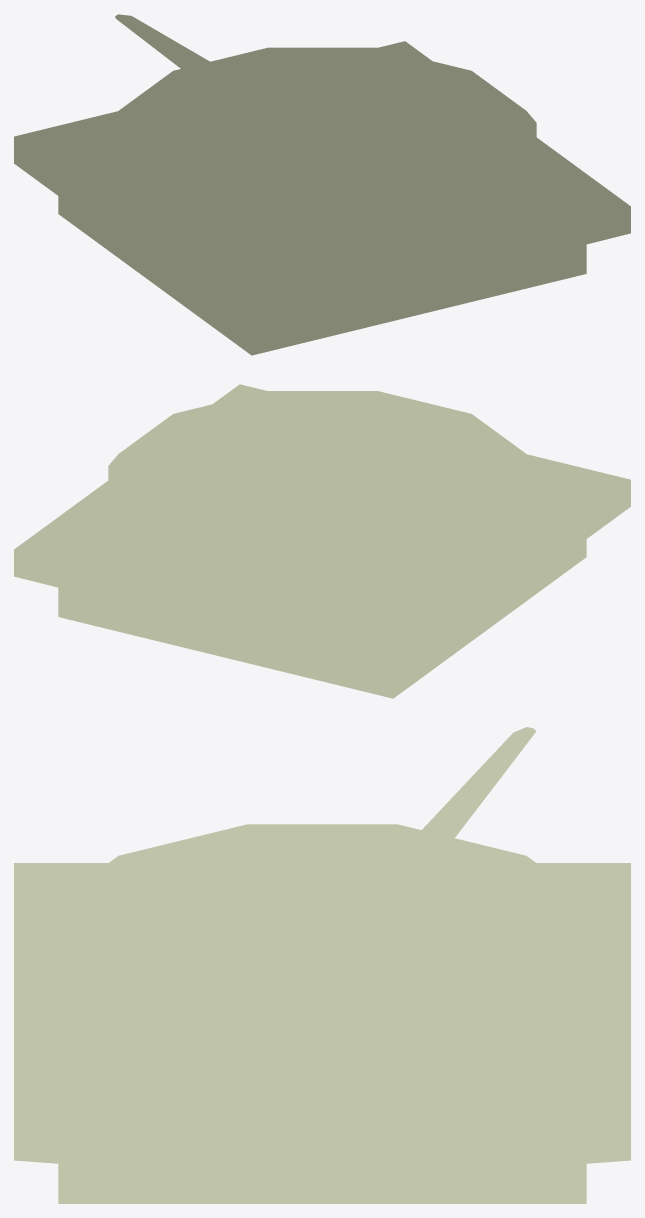
File: sundial.dae
The picture shows the model from 3 angles, top to bottom: view 1: azimuth 30°, elevation 25°; view 2: azimuth 150°, elevation 25°; view 3: azimuth 270°, elevation 25°; orthographic projection. The views are drawn at different scales.
Parts seen in each view (by area): view 1: cube3-0; view 2: cube3-0; view 3: cube3-0.
Boxes of the visible parts, x1,y1,x2,y2 form: cube3-0: [14, 14, 630, 355]; cube3-0: [14, 384, 630, 698]; cube3-0: [14, 727, 630, 1203].
Size of the model in its own units: 2 by 0.9918 by 2.
